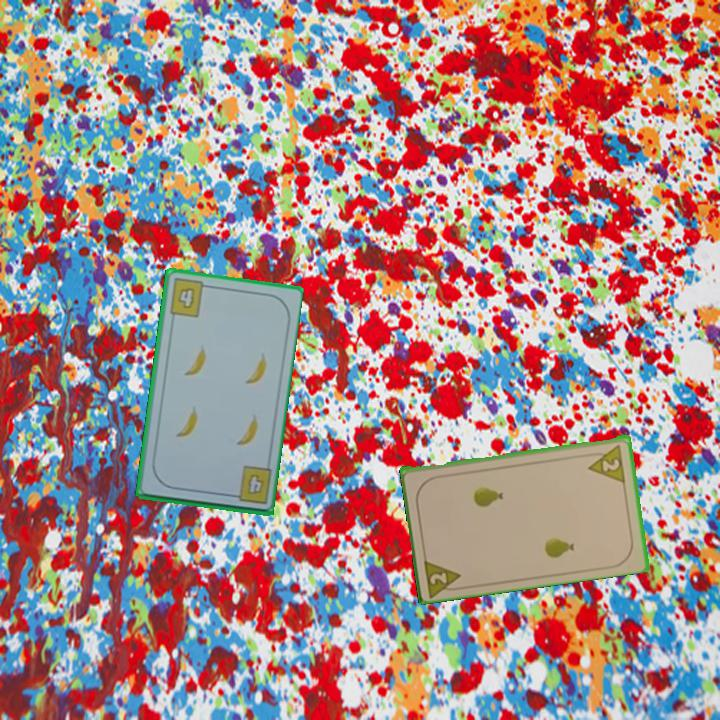2p: (421, 554, 467, 598), (584, 441, 628, 484)
4b: (226, 463, 274, 507), (166, 275, 212, 320)
